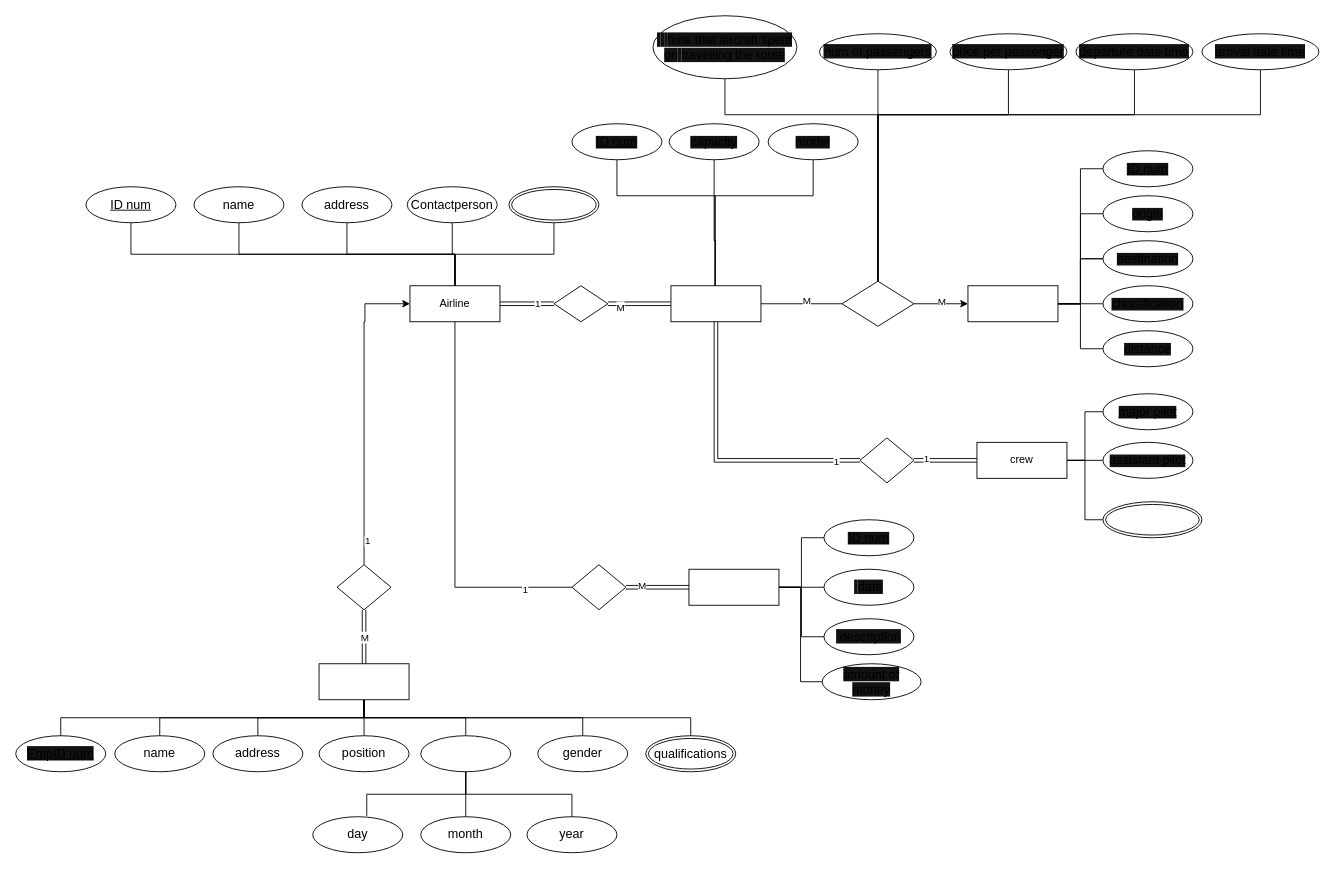
Some shapes in this 1335 by 869 pixel diagram are drawn without their labels. Each missing label, with the centre of its shape:
"Aircraft" belongs at (715,303).
"assigned to" belongs at (877,303).
"birthday" belongs at (465,753).
"Employee" belongs at (363,681).
"has" belongs at (886,460).
"keeps" belongs at (598,587).
"own" belongs at (580,303).
"PhoneNumbers" belongs at (553,204).
"route" belongs at (1012,303).
"transaction" belongs at (733,586).
"two hostesses" belongs at (1152,519).
"work" belongs at (363,587).
